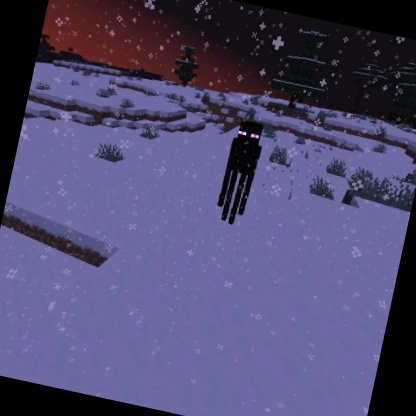enderman: (211, 115, 269, 229)
